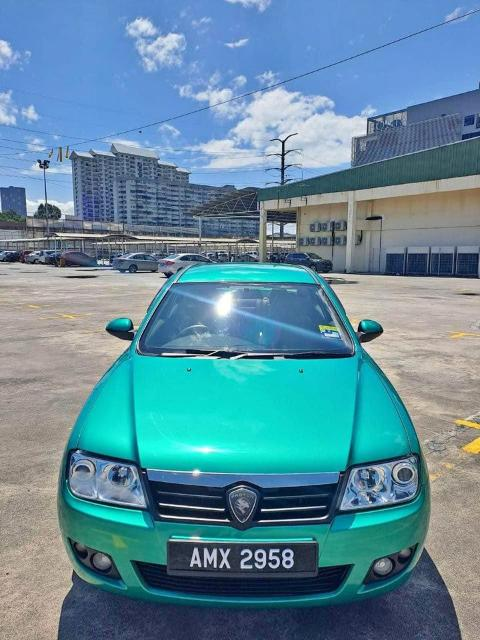License_Plate: (168, 539, 320, 577)
car: (60, 263, 426, 608)
